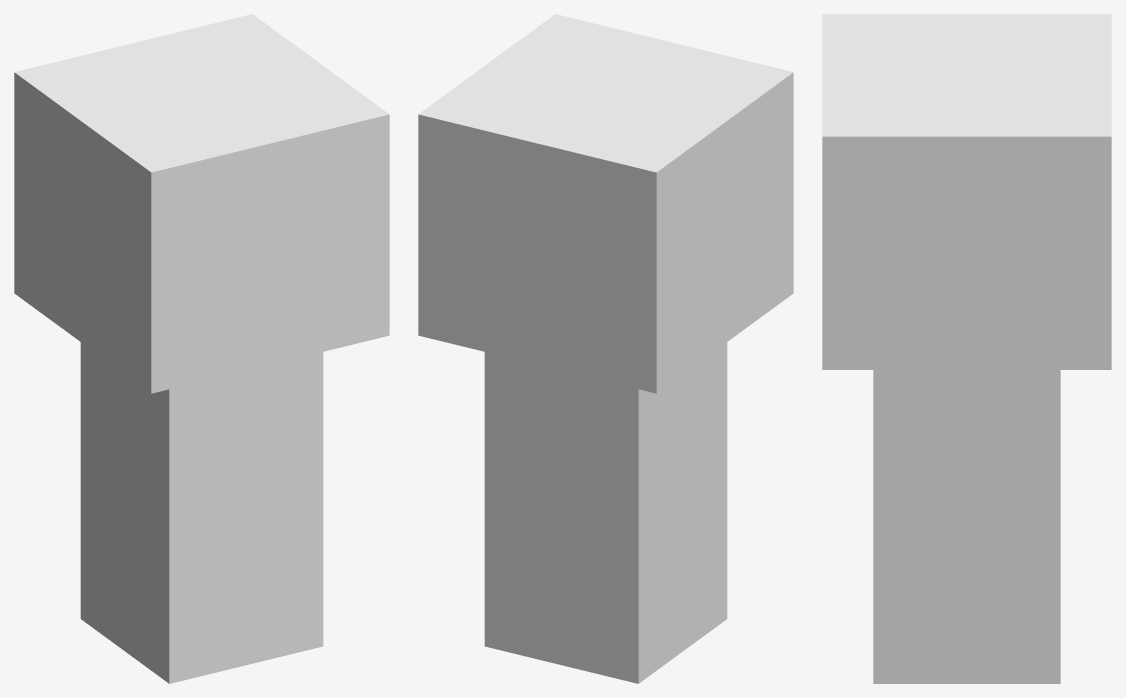
Rendered from Peasant01.fbx.
The picture shows the model from 3 angles, left to right: view 1: azimuth 30°, elevation 25°; view 2: azimuth 150°, elevation 25°; view 3: azimuth 270°, elevation 25°; orthographic projection. The views are drawn at different scales.
Visible parts, largest first — view 1: Head, Body; view 2: Head, Body; view 3: Head, Body.
Boxes of the visible parts, <box> form: Head: <box>14,14,389,393</box>; Body: <box>80,342,323,683</box>; Head: <box>418,14,793,393</box>; Body: <box>484,342,727,683</box>; Head: <box>822,14,1111,369</box>; Body: <box>873,370,1060,683</box>.
Bounding box in the file's own units: 20.92 × 45.25 × 20.86.
